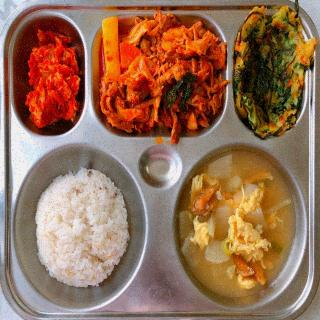Nasi: (30, 169, 133, 294)
